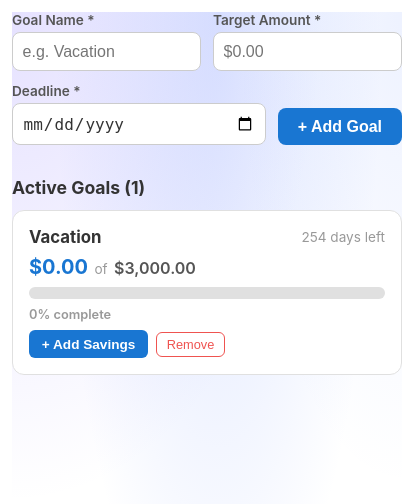
Test: SavingsGoalsView › opens add savings form on Add Savings click
This screenshot has width=414, height=504.
Click the button with class "btn-fund".
click(89, 344)  # box top-left (29, 330), bottom-right (148, 358)
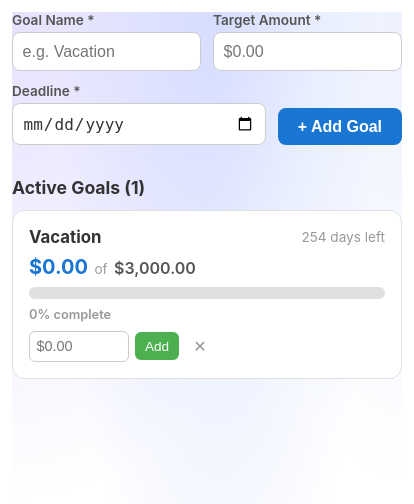
Now the form with class "add-savings-form" is shown, box top-left (29, 330), bottom-right (215, 362)
